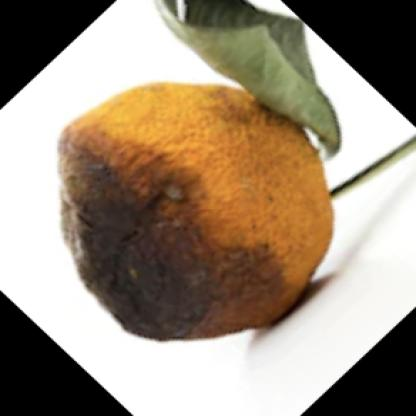rotten: (60, 84, 334, 342)
